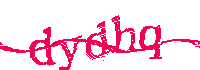d: (29, 27, 56, 66), (85, 21, 110, 60)
h: (112, 16, 135, 55)
q: (140, 24, 164, 61)
y: (58, 35, 82, 70)
